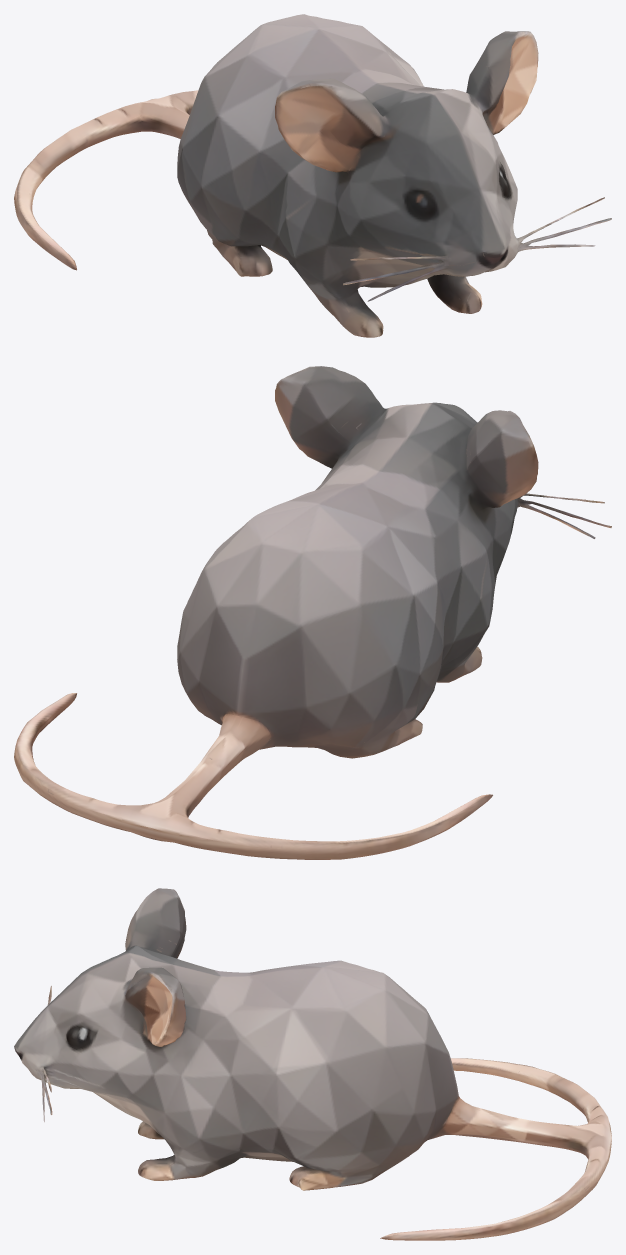
Rendered from base_basic_shaded.fbx.
3 renders of one model, top to bottom at view 1: azimuth 30°, elevation 25°; view 2: azimuth 150°, elevation 25°; view 3: azimuth 270°, elevation 25°, orthographic. The views are drawn at different scales.
Parts seen in each view (by area): view 1: model; view 2: model; view 3: model.
Boxes of the visible parts, box(x1,y1,x2,y2) form: model: box(14, 14, 611, 337); model: box(14, 366, 611, 859); model: box(14, 888, 611, 1240).
Size of the model in its own units: 132 by 78.69 by 190.
